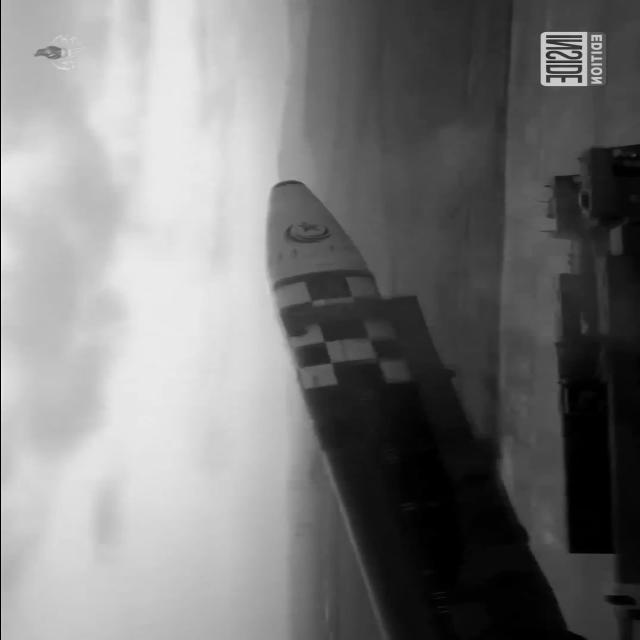missile: (227, 178, 551, 640)
